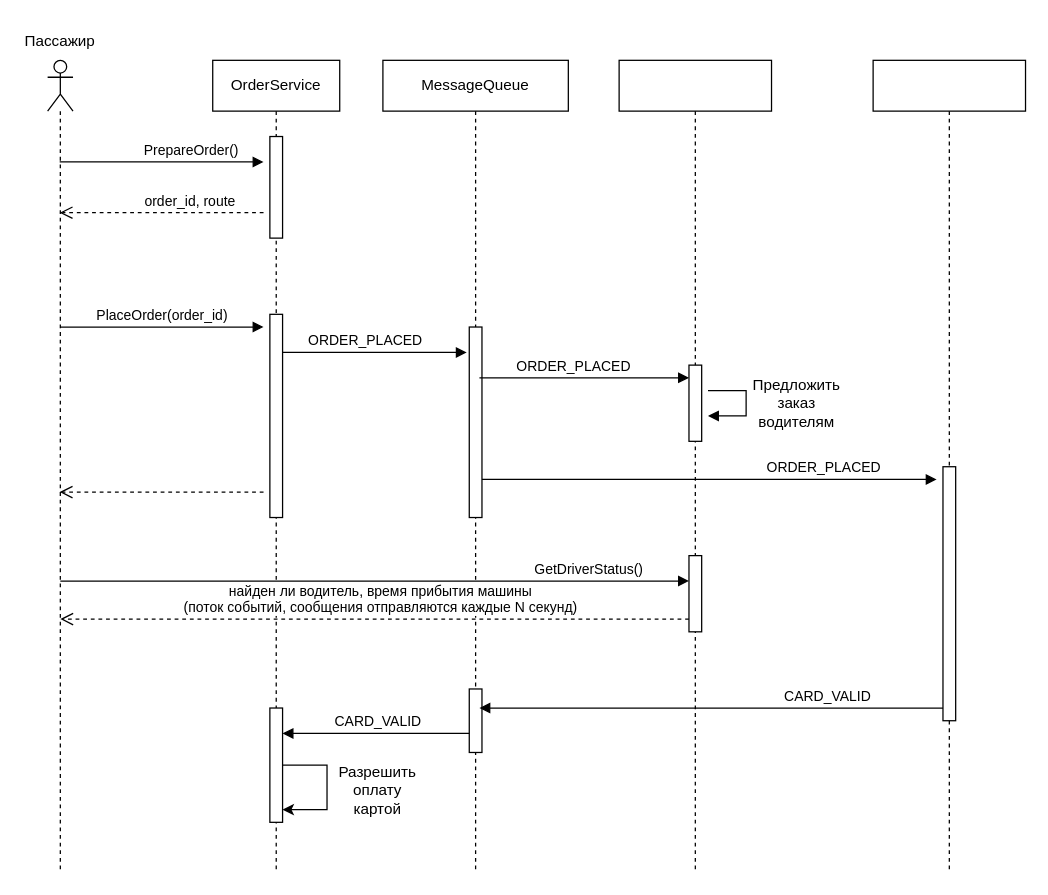
Image size: 1048x895. Some labels were removed from this diagram. Each missing label, with the centre of its shape:
CarLocatorService: (695,466)
PaymentService: (949,466)
